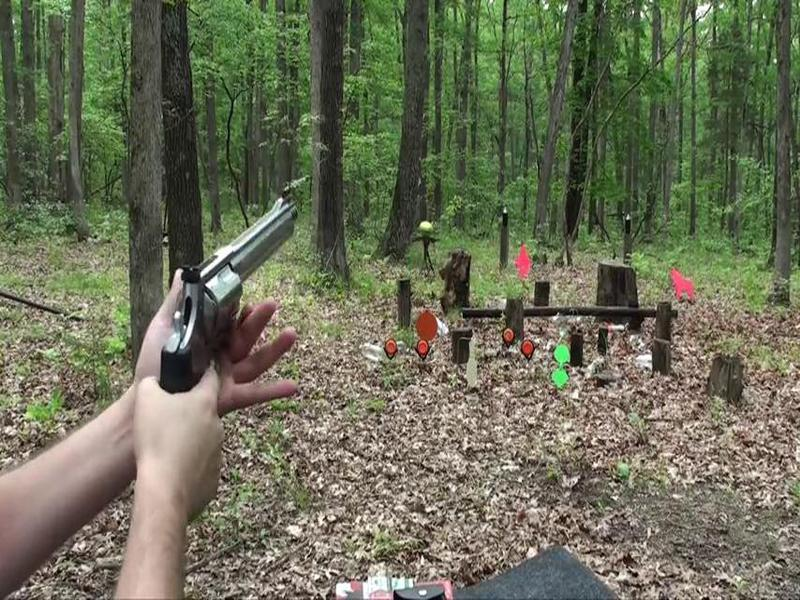Revolver: (141, 165, 301, 426)
